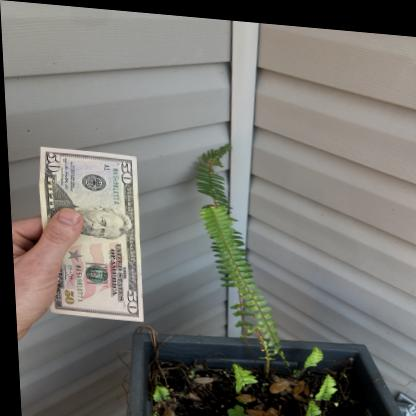fifty-front: (36, 142, 146, 327)
